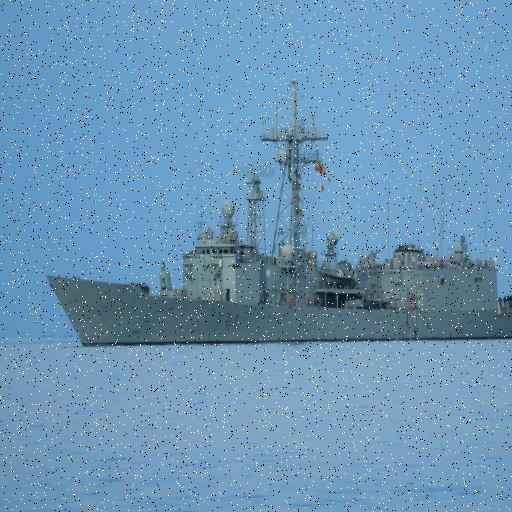Fragata: (46, 70, 512, 351)
